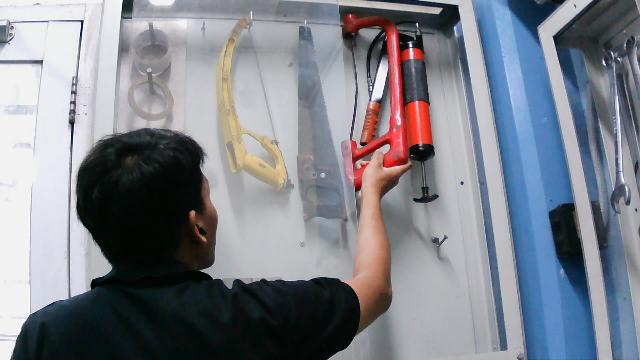gergaji_besi: (338, 9, 412, 194)
